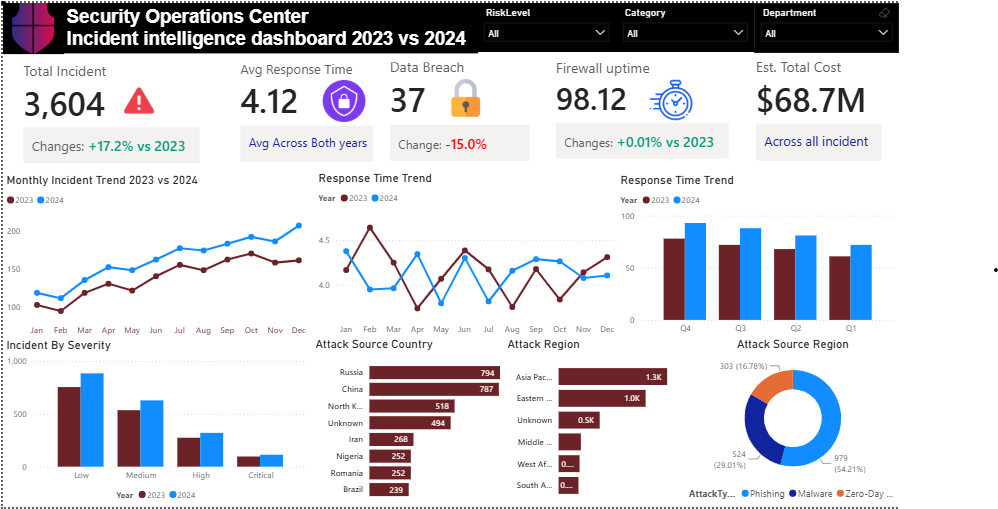

What the dashboard file says about the page in this screenshot:
{"tool":"powerbi","page":{"name":"Page 1","canvas":[1280,720],"ordinal":0},"visuals":[{"type":"cardVisual","fields":{"Data":["Dax.Total Incident"]},"box":[0,72.5,310,185],"z":0},{"type":"cardVisual","fields":{"Data":["Dax.Avg Response Time"]},"box":[309.9,70.7,272.3,186.8],"z":1000},{"type":"cardVisual","fields":{"Data":["Dax.Data Breach"]},"box":[528.9,72.7,248.6,177.1],"z":2000},{"type":"cardVisual","fields":{"Data":["Dax.Firewall uptime"]},"box":[765.1,72,295.7,175.7],"z":3000},{"type":"lineChart","title":"Monthly Incident Trend 2023 vs 2024","fields":{"Category":["dim_date.MonthAbbr"],"Y":["Dax.Total Incident"],"Series":["dim_date.Year"]},"box":[0.2,243,441.2,242.5],"z":4000},{"type":"lineChart","title":"Response Time Trend","fields":{"Category":["dim_date.MonthAbbr"],"Y":["Dax.Avg Response Time"],"Series":["dim_date.Year"]},"box":[446.2,239.7,436,243.5],"z":5000},{"type":"clusteredColumnChart","title":"Response Time Trend","fields":{"Category":["dim_date.Quarter"],"Series":["dim_date.Year"],"Y":["Dax.Patch Rate"]},"box":[877,242.6,403,240.1],"z":6000},{"type":"clusteredColumnChart","title":"Incident By Severity","fields":{"Category":["dim_severity.Severity"],"Y":["Dax.Total Incident"],"Series":["dim_date.Year"]},"box":[0,478,442,242],"z":7000},{"type":"clusteredBarChart","title":"Attack Source Country","fields":{"Category":["dim_attack_source.Country"],"Y":["Dax.Total Incident"]},"box":[441.2,477.5,275,242.5],"z":8000},{"type":"clusteredBarChart","title":"Attack Region","fields":{"Y":["Dax.Total Incident"],"Category":["dim_attack_source.Region"]},"box":[716.2,477.5,261.2,242.5],"z":9000},{"type":"donutChart","title":"Attack Source Region","fields":{"Category":["dim_attack_type.AttackType"],"Y":["Dax.Total Incident"]},"box":[977.5,477.5,302.5,242.5],"z":10000},{"type":"slicer","fields":{"Values":["dim_attack_type.Category"]},"box":[875.7,0,197.8,70],"z":11000},{"type":"slicer","fields":{"Values":["dim_department.Department"]},"box":[1072.3,0,207.7,70.9],"z":12000},{"type":"slicer","fields":{"Values":["dim_attack_type.RiskLevel"]},"box":[677.8,0,199,70],"z":13000},{"type":"image","box":[0,0,86.8,72.7],"z":14000},{"type":"textbox","box":[85.6,0,593.4,71.5],"z":15000},{"type":"image","box":[153.1,110.1,83,60.1],"z":16000},{"type":"image","box":[913.5,107.9,83,60.1],"z":17000},{"type":"image","box":[620.3,107.9,82.1,53.9],"z":18000},{"type":"image","box":[446.3,110.1,83,60.1],"z":19000},{"type":"cardVisual","fields":{"Data":["Dax.Total Estimated Cost (Formatted)"]},"box":[1051.2,71.2,228.8,178.8],"z":20000}]}

Visuals, with their boxes on the page's 1280x720 design canvas (x1, y1, x2, y2). These are canvas units, not pixel positions in the 998x509 screenshot, which may show the page scaled, cropped or inside an application window:
cardVisual - Dax.Total Incident: (left=0, top=72, right=310, bottom=258)
cardVisual - Dax.Avg Response Time: (left=310, top=71, right=582, bottom=258)
cardVisual - Dax.Data Breach: (left=529, top=73, right=778, bottom=250)
cardVisual - Dax.Firewall uptime: (left=765, top=72, right=1061, bottom=248)
"Monthly Incident Trend 2023 vs 2024" lineChart: (left=0, top=243, right=441, bottom=486)
"Response Time Trend" lineChart: (left=446, top=240, right=882, bottom=483)
"Response Time Trend" clusteredColumnChart: (left=877, top=243, right=1280, bottom=483)
"Incident By Severity" clusteredColumnChart: (left=0, top=478, right=442, bottom=720)
"Attack Source Country" clusteredBarChart: (left=441, top=478, right=716, bottom=720)
"Attack Region" clusteredBarChart: (left=716, top=478, right=977, bottom=720)
"Attack Source Region" donutChart: (left=978, top=478, right=1280, bottom=720)
slicer - dim_attack_type.Category: (left=876, top=0, right=1074, bottom=70)
slicer - dim_department.Department: (left=1072, top=0, right=1280, bottom=71)
slicer - dim_attack_type.RiskLevel: (left=678, top=0, right=877, bottom=70)
image: (left=0, top=0, right=87, bottom=73)
textbox: (left=86, top=0, right=679, bottom=72)
image: (left=153, top=110, right=236, bottom=170)
image: (left=914, top=108, right=996, bottom=168)
image: (left=620, top=108, right=702, bottom=162)
image: (left=446, top=110, right=529, bottom=170)
cardVisual - Dax.Total Estimated Cost (Formatted): (left=1051, top=71, right=1280, bottom=250)
